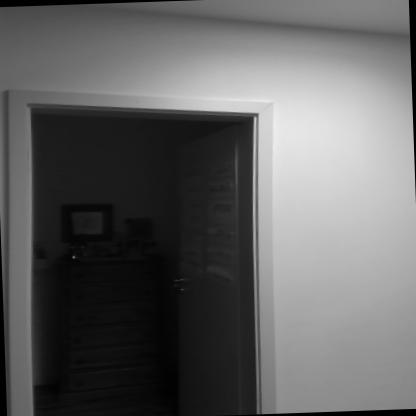open: (0, 70, 295, 416)
